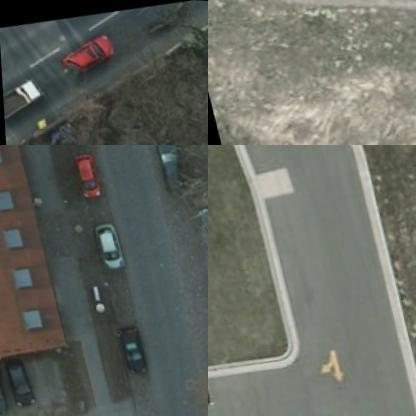car: (56, 26, 121, 76), (1, 71, 52, 120), (112, 320, 148, 372), (1, 348, 32, 404), (69, 147, 104, 194), (92, 215, 124, 266), (154, 145, 189, 188), (0, 354, 10, 414), (192, 195, 207, 228)
